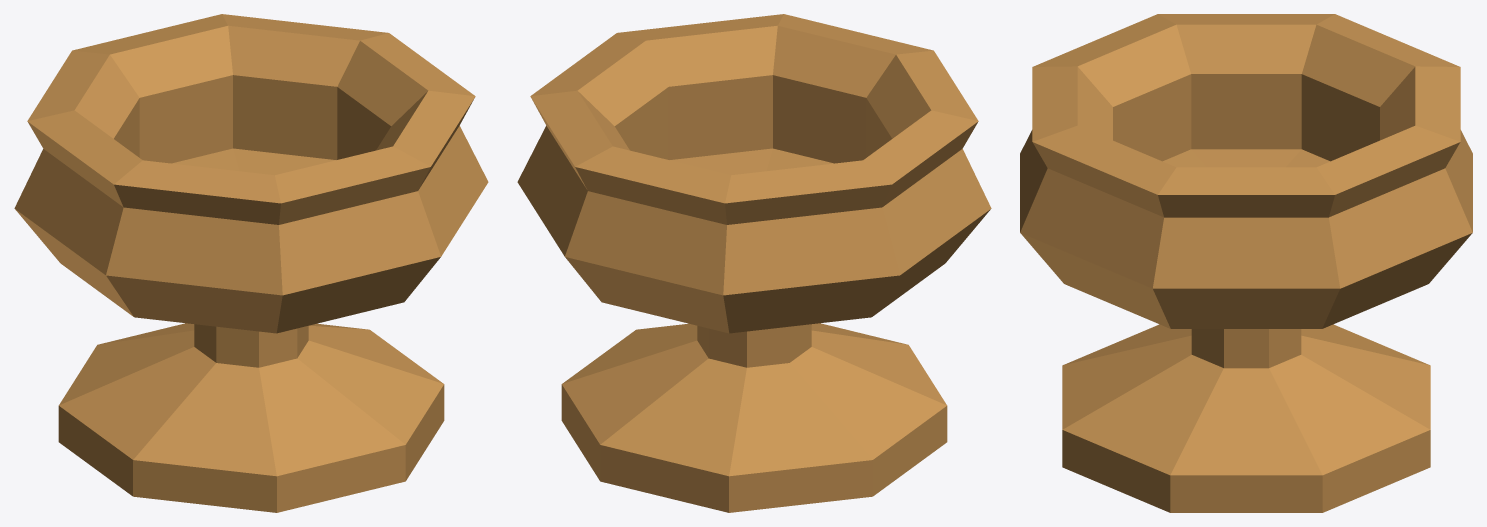
File: SM_Prop_Gold_Bowl_02.fbx
3 views of the same model, side by side, from view 1: azimuth 30°, elevation 25°; view 2: azimuth 150°, elevation 25°; view 3: azimuth 270°, elevation 25° (orthographic). The views are drawn at different scales.
Visible parts, largest first — view 1: SM_Prop_Gold_Bowl_02; view 2: SM_Prop_Gold_Bowl_02; view 3: SM_Prop_Gold_Bowl_02.
Part boxes in pixels (bbox=[...]): SM_Prop_Gold_Bowl_02: bbox=[14, 14, 488, 512]; SM_Prop_Gold_Bowl_02: bbox=[517, 14, 991, 512]; SM_Prop_Gold_Bowl_02: bbox=[1020, 14, 1472, 512].
Bounding box in the file's own units: 35.83 × 29.62 × 35.83.
